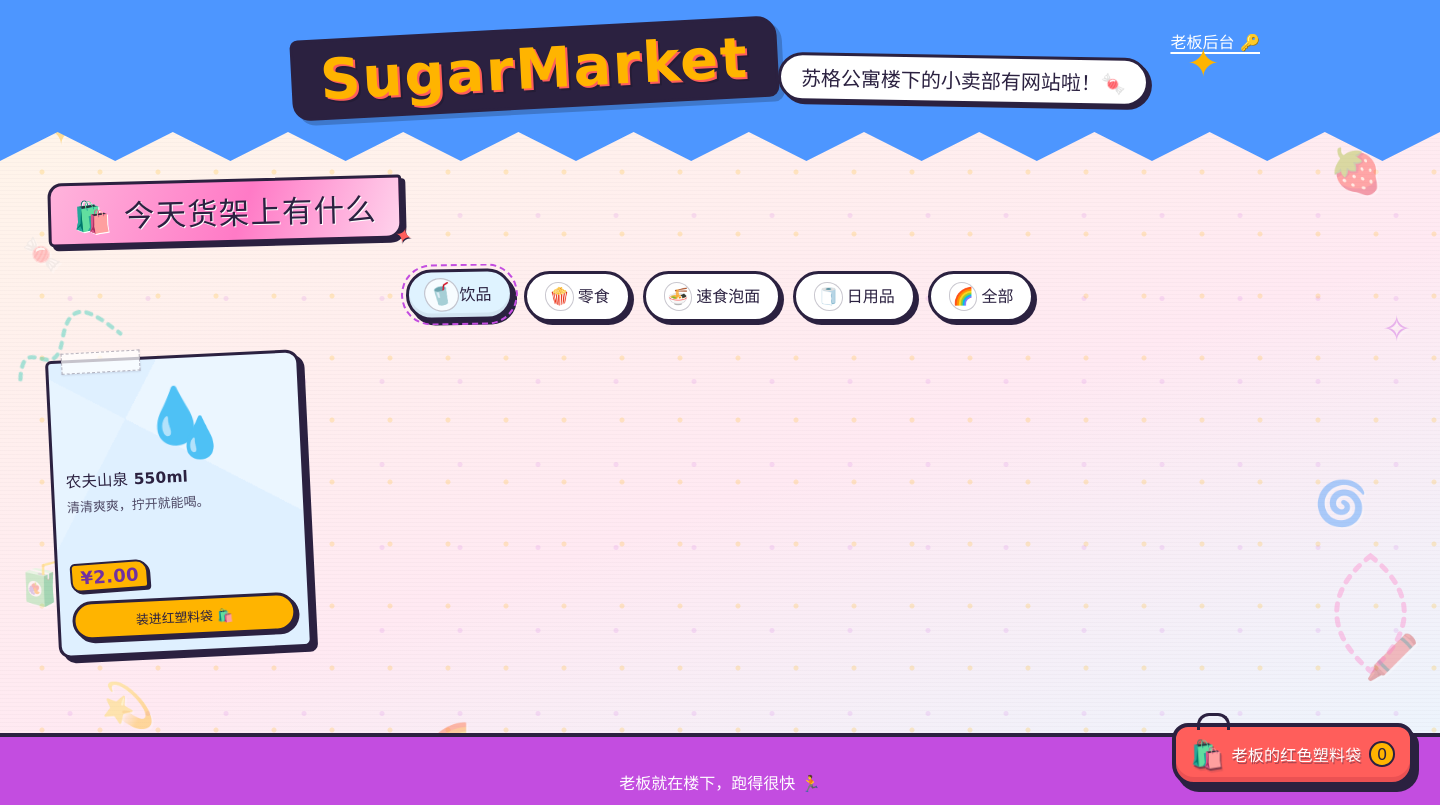
Test: storefront catalog and checkout › shows the wild tier label without exposing the comparison amount
This screenshot has width=1440, height=805.
Expected: the heading "农夫山泉 550ml" is shown, [65, 467, 188, 491]
Click the button "装进红塑料袋 🛍️" at x=185, y=616, box [72, 591, 298, 641]
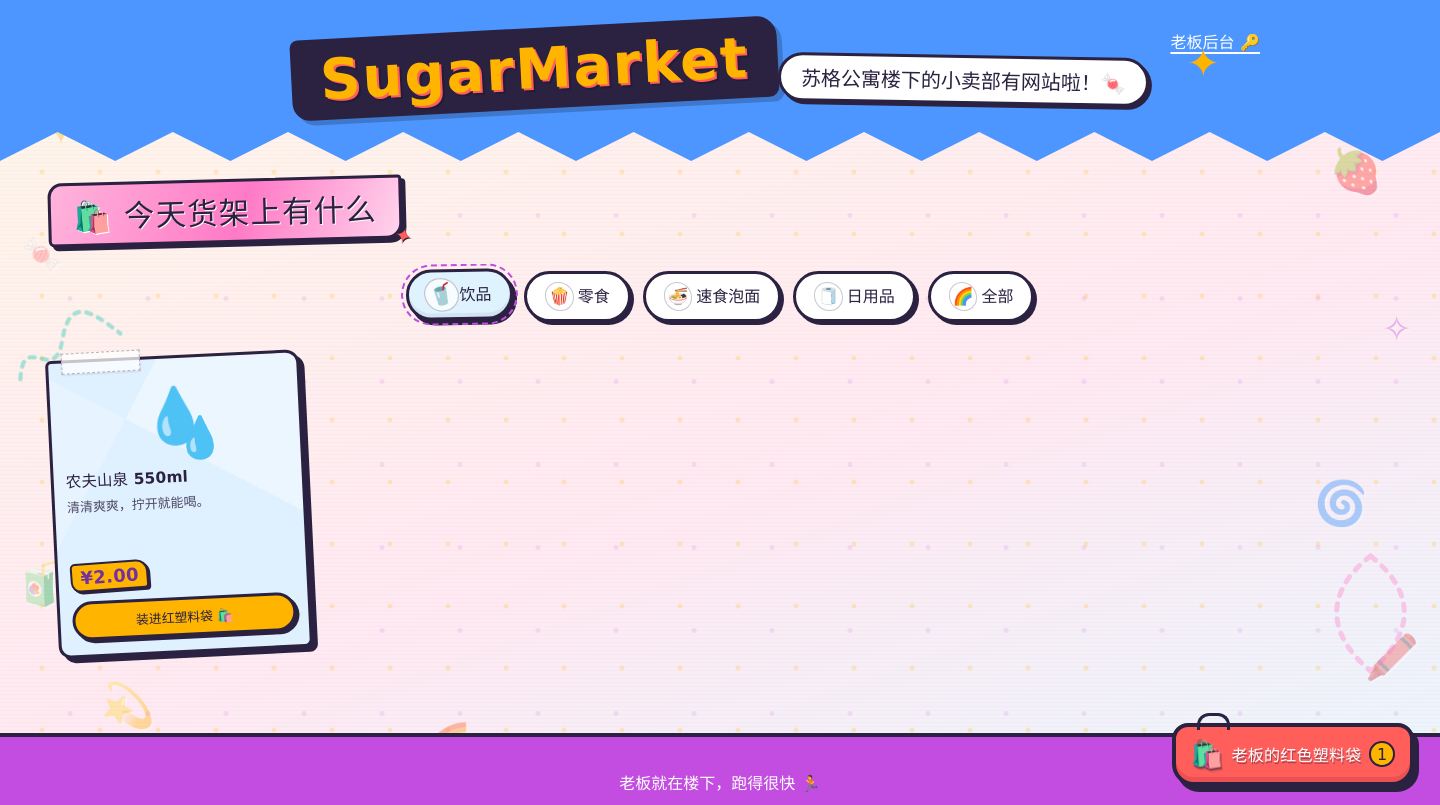
Click the button with aria-label "老板的红色塑料袋，共1件" at x=1293, y=754, box [1172, 723, 1414, 786]
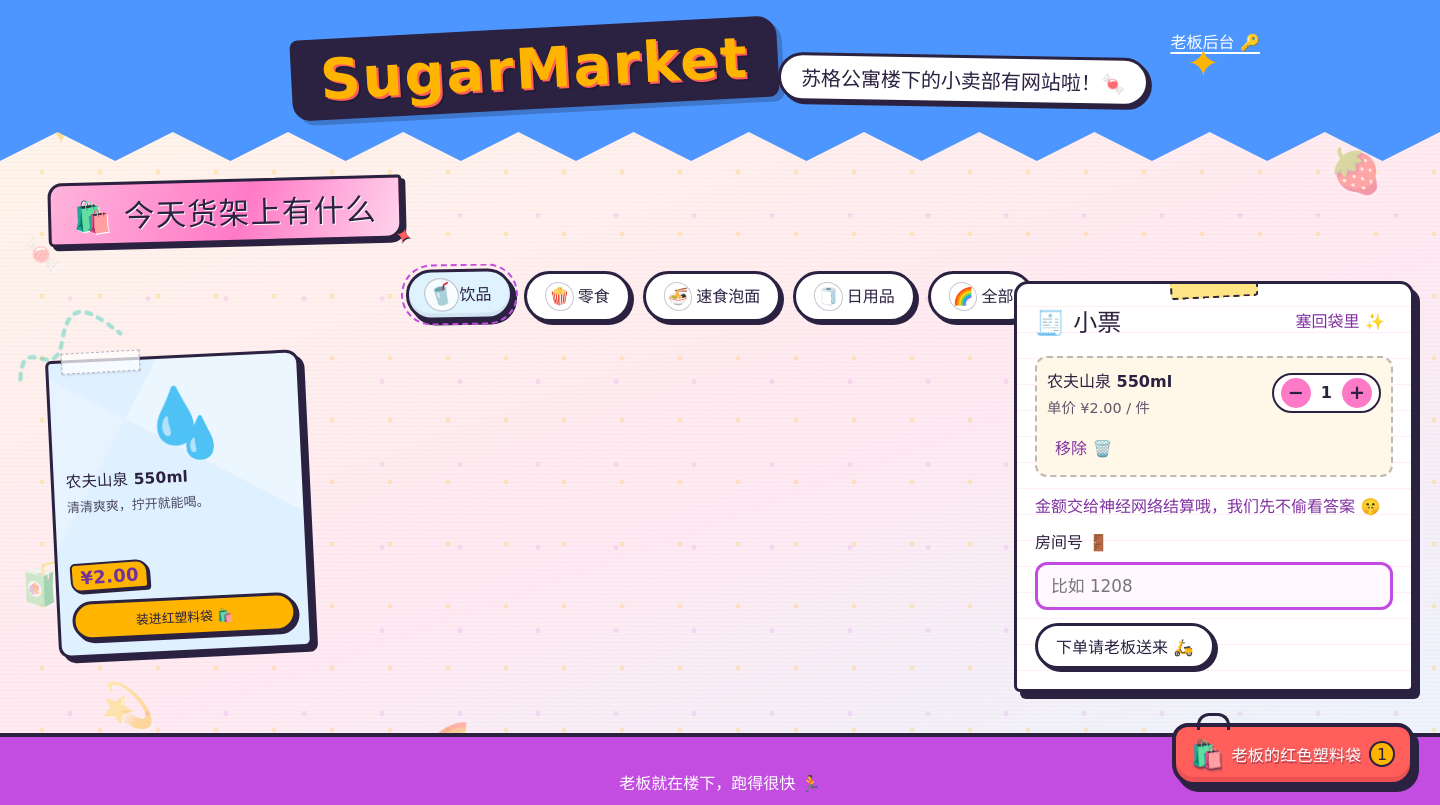
Type "1208" into the field labelled "房间号 🚪" at x=1214, y=586, box [1035, 562, 1393, 610]
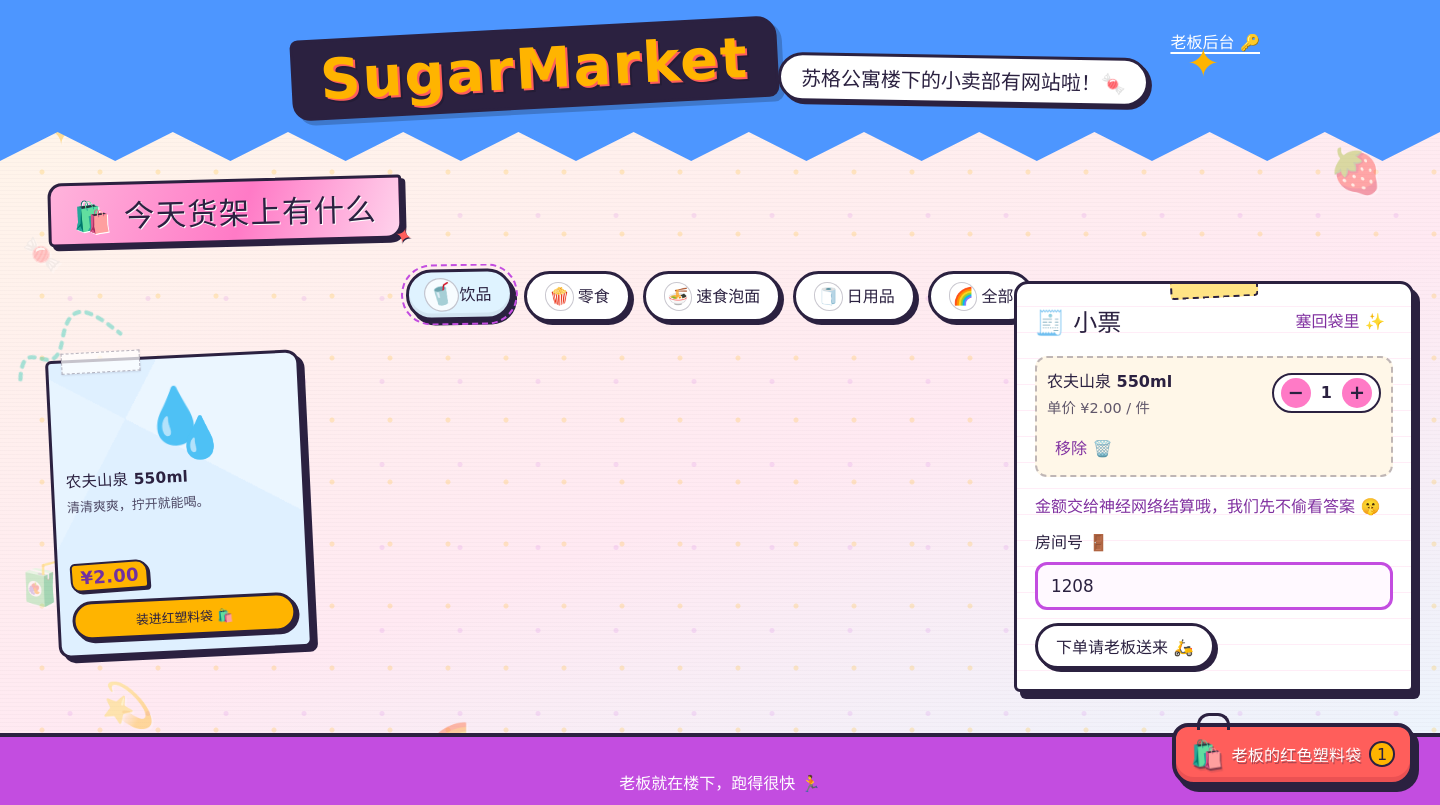
Click the button "下单请老板送来 🛵" at x=1125, y=646, box [1035, 623, 1214, 669]
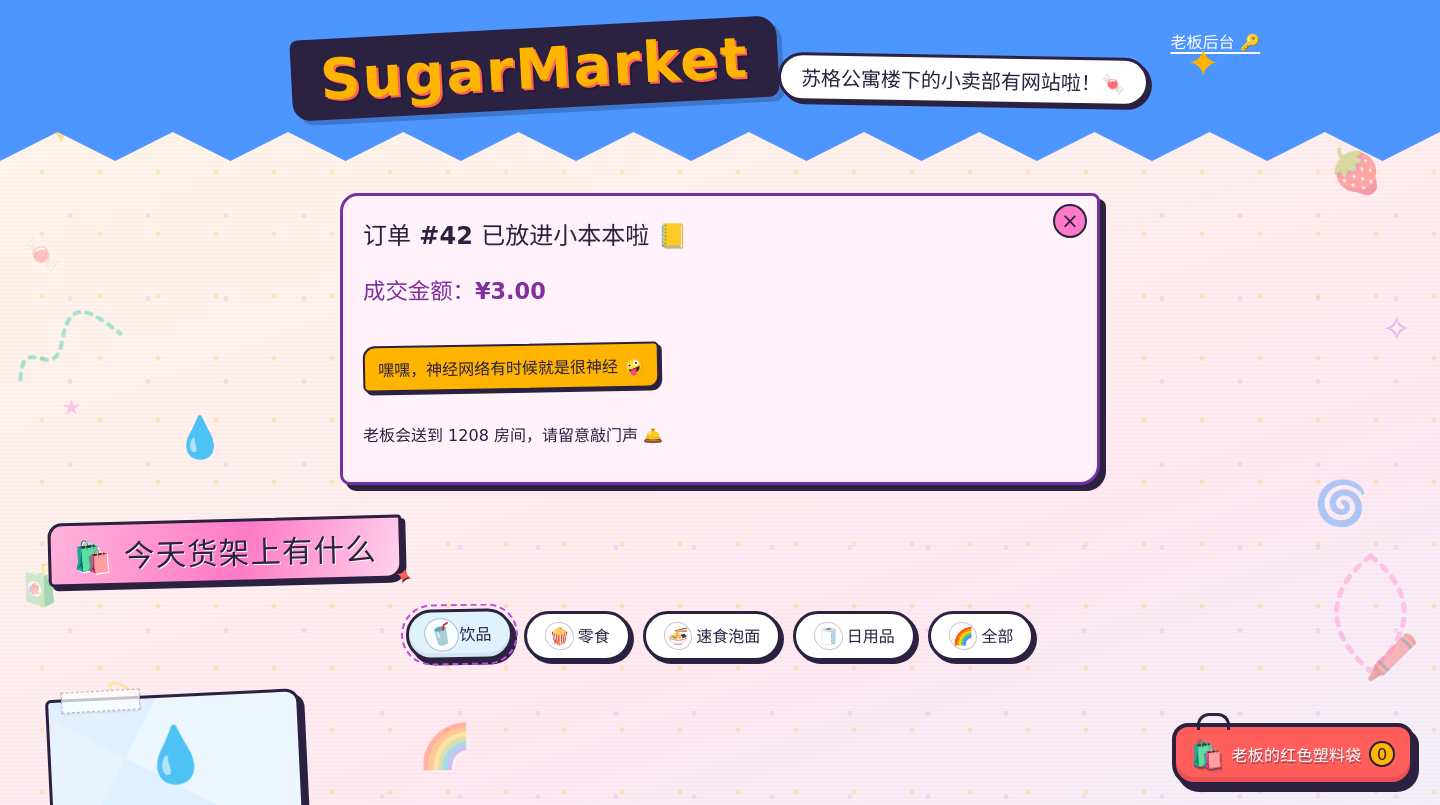
Expected: the text "¥2.00" is not shown
Now the text "嘿嘿，神经网络有时候就是很神经 🤪" is shown, box [363, 341, 659, 392]
